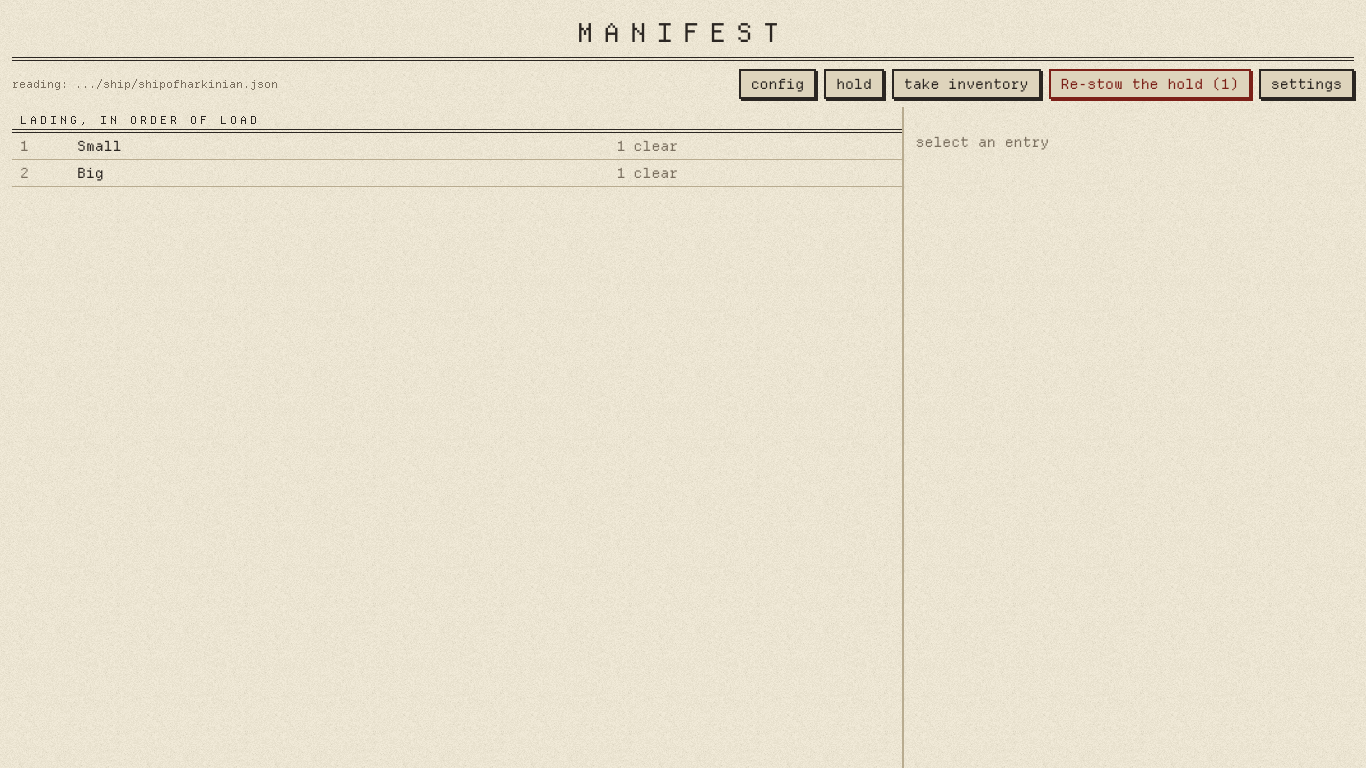
Test: App › hides the Re-stow button and order note while the damaged page is shown
Expected: the button "Re-stow the hold (1)" is shown, [1048, 69, 1251, 99]
What coordinates should you click on to do the following:
click the button "take inventory"
I would click on:
 (966, 84)
Its box is [892, 69, 1040, 99].
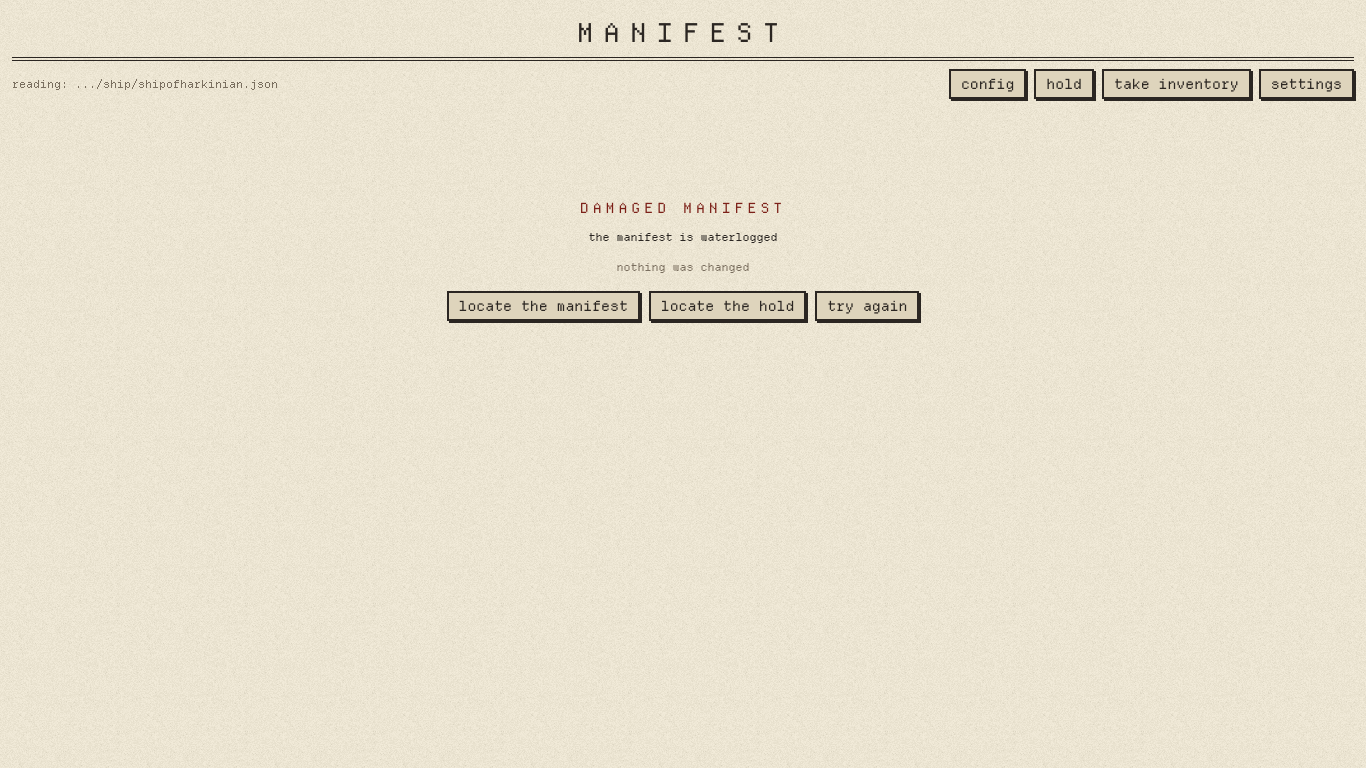
Expected: the text "DAMAGED MANIFEST" is shown, [580, 199, 786, 217]
Expected: the button "Re-stow the hold" is gone
